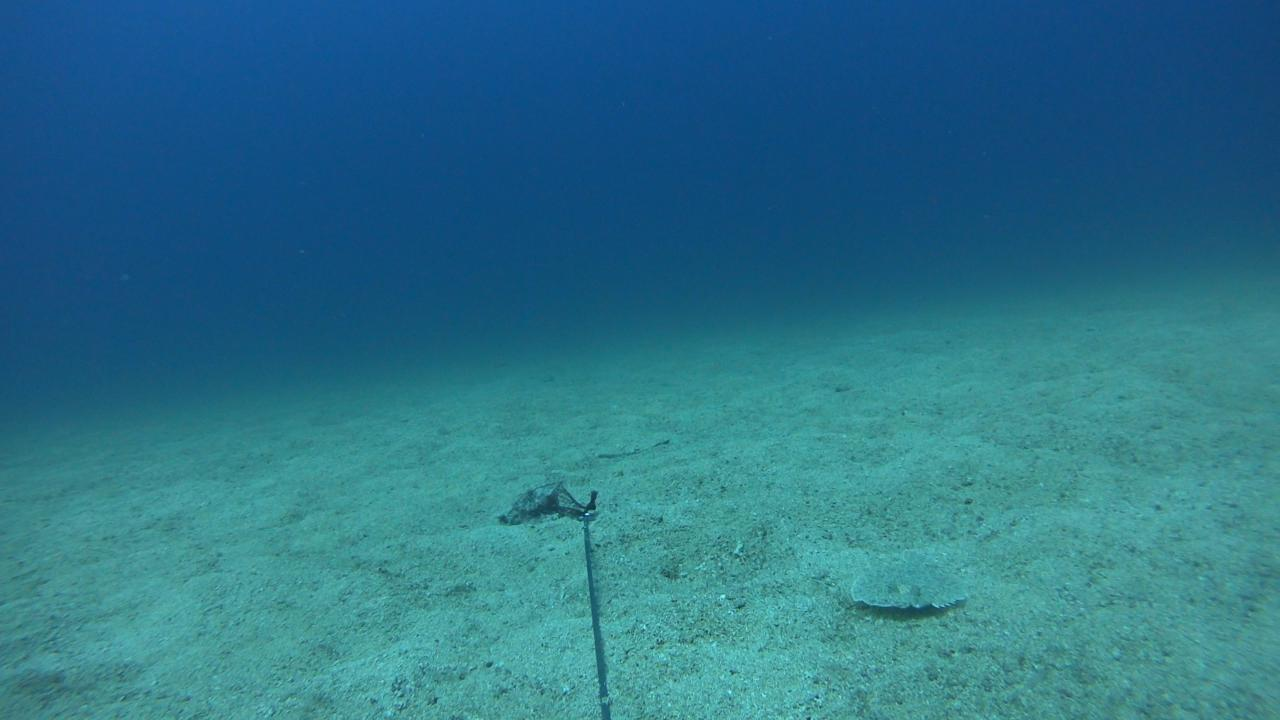bothus: (842, 546, 972, 617)
